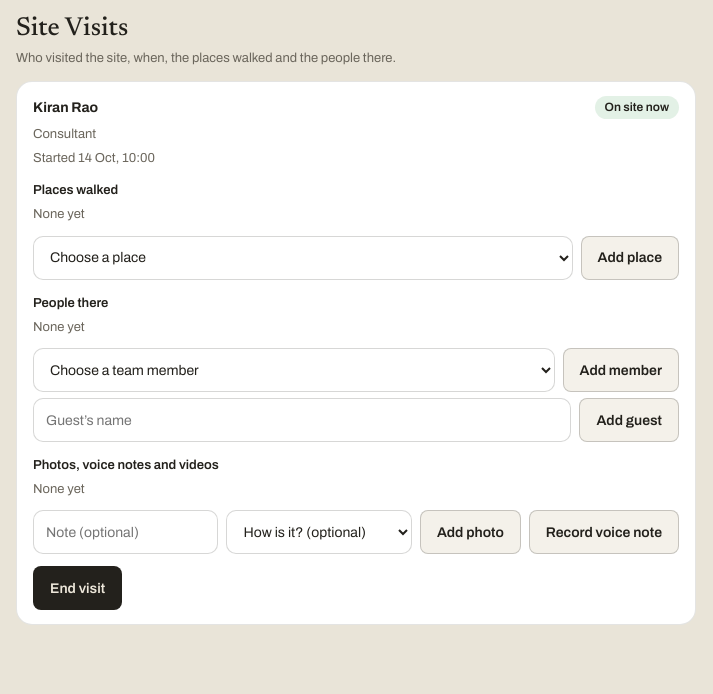
Stage 1 voice notes on a visit › does not keep a recording that ran two minutes or more, though the cap should have stopped it
The width and height of the screenshot is (713, 694).
Click the button "Record voice note": coordinates (604, 532) [529,510,679,554]
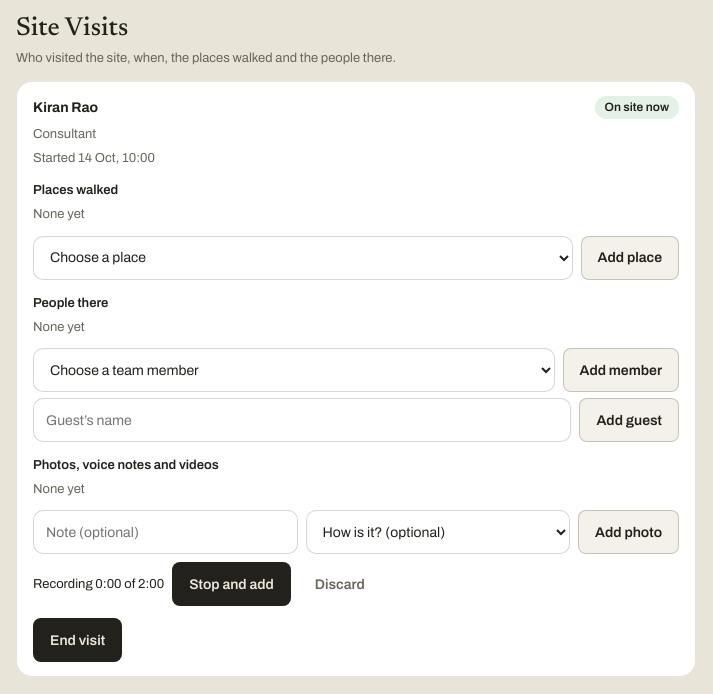
Click the button "Stop and add": coordinates (232, 584) [172,562,291,606]
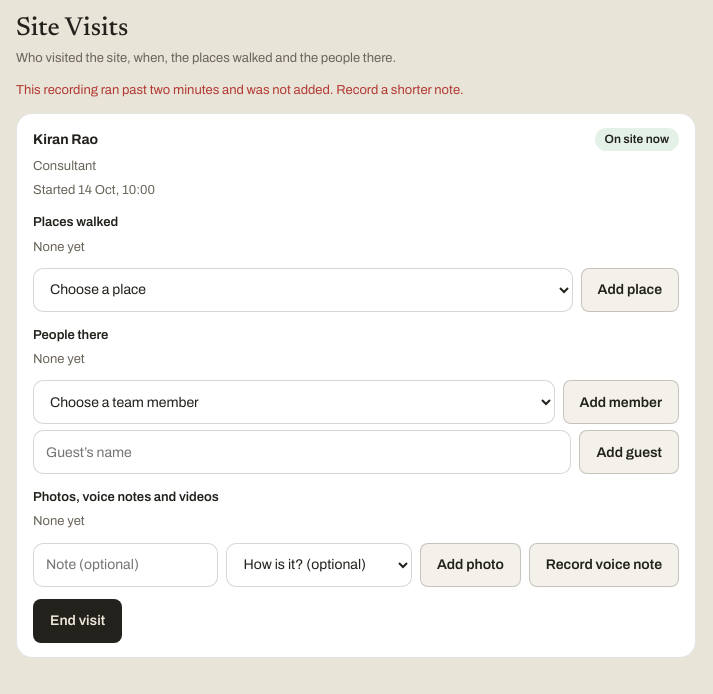
Expected: the message reads "This recording ran past two minutes and was not added. Record a shorter note.", [16,83,464,97]
